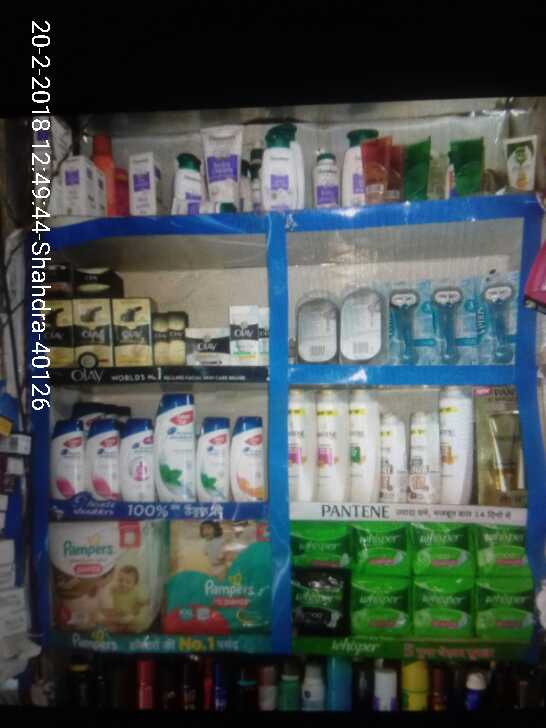venus: (343, 283, 392, 368), (478, 271, 519, 366), (434, 278, 478, 366), (294, 288, 340, 365), (392, 280, 430, 368)
